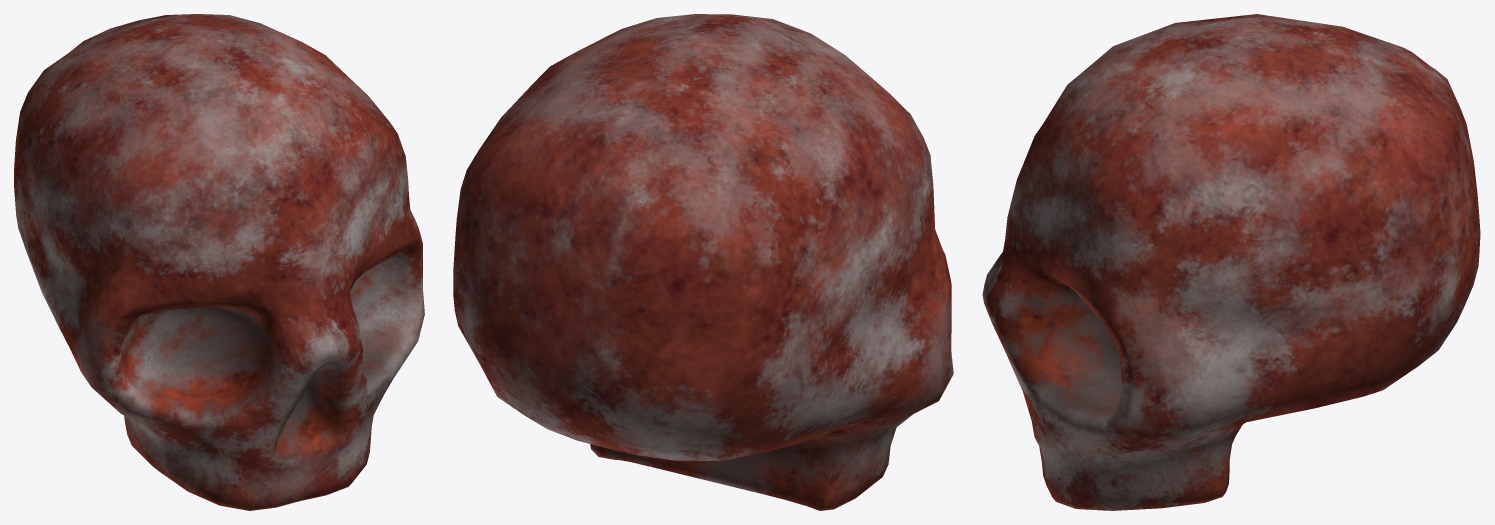
File: bloody_skull.glb
3 renders of one model, left to right at view 1: azimuth 30°, elevation 25°; view 2: azimuth 150°, elevation 25°; view 3: azimuth 270°, elevation 25°, orthographic. The views are drawn at different scales.
Visible parts, largest first — view 1: Cube; view 2: Cube; view 3: Cube.
Part boxes in pixels (x1,y1,x2,y2): Cube: [14, 14, 424, 510]; Cube: [453, 14, 953, 510]; Cube: [982, 14, 1480, 510].
Bounding box in the file's own units: 0.5795 × 0.6705 × 0.6818.
Materials: 1 (1 with a texture image).
